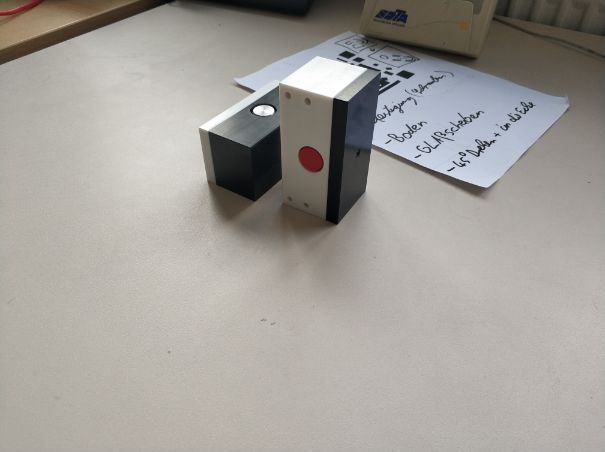black+white+red: (278, 54, 383, 226)
white+black+silver: (197, 78, 284, 204)
